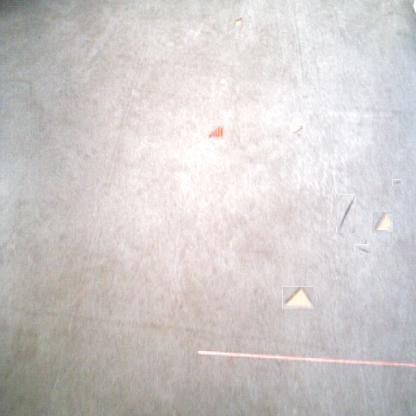dirty: (282, 286, 313, 309), (373, 212, 393, 233), (208, 125, 224, 139), (291, 124, 302, 135), (234, 16, 242, 26)
mark: (336, 194, 356, 233), (356, 242, 369, 255), (279, 64, 287, 78), (393, 178, 400, 187)
